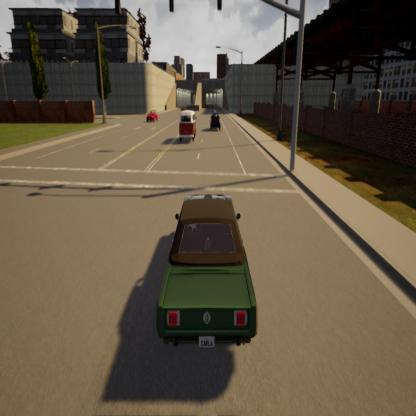Cars: (157, 193, 259, 350), (179, 110, 197, 140), (209, 111, 222, 131), (146, 108, 158, 124)
